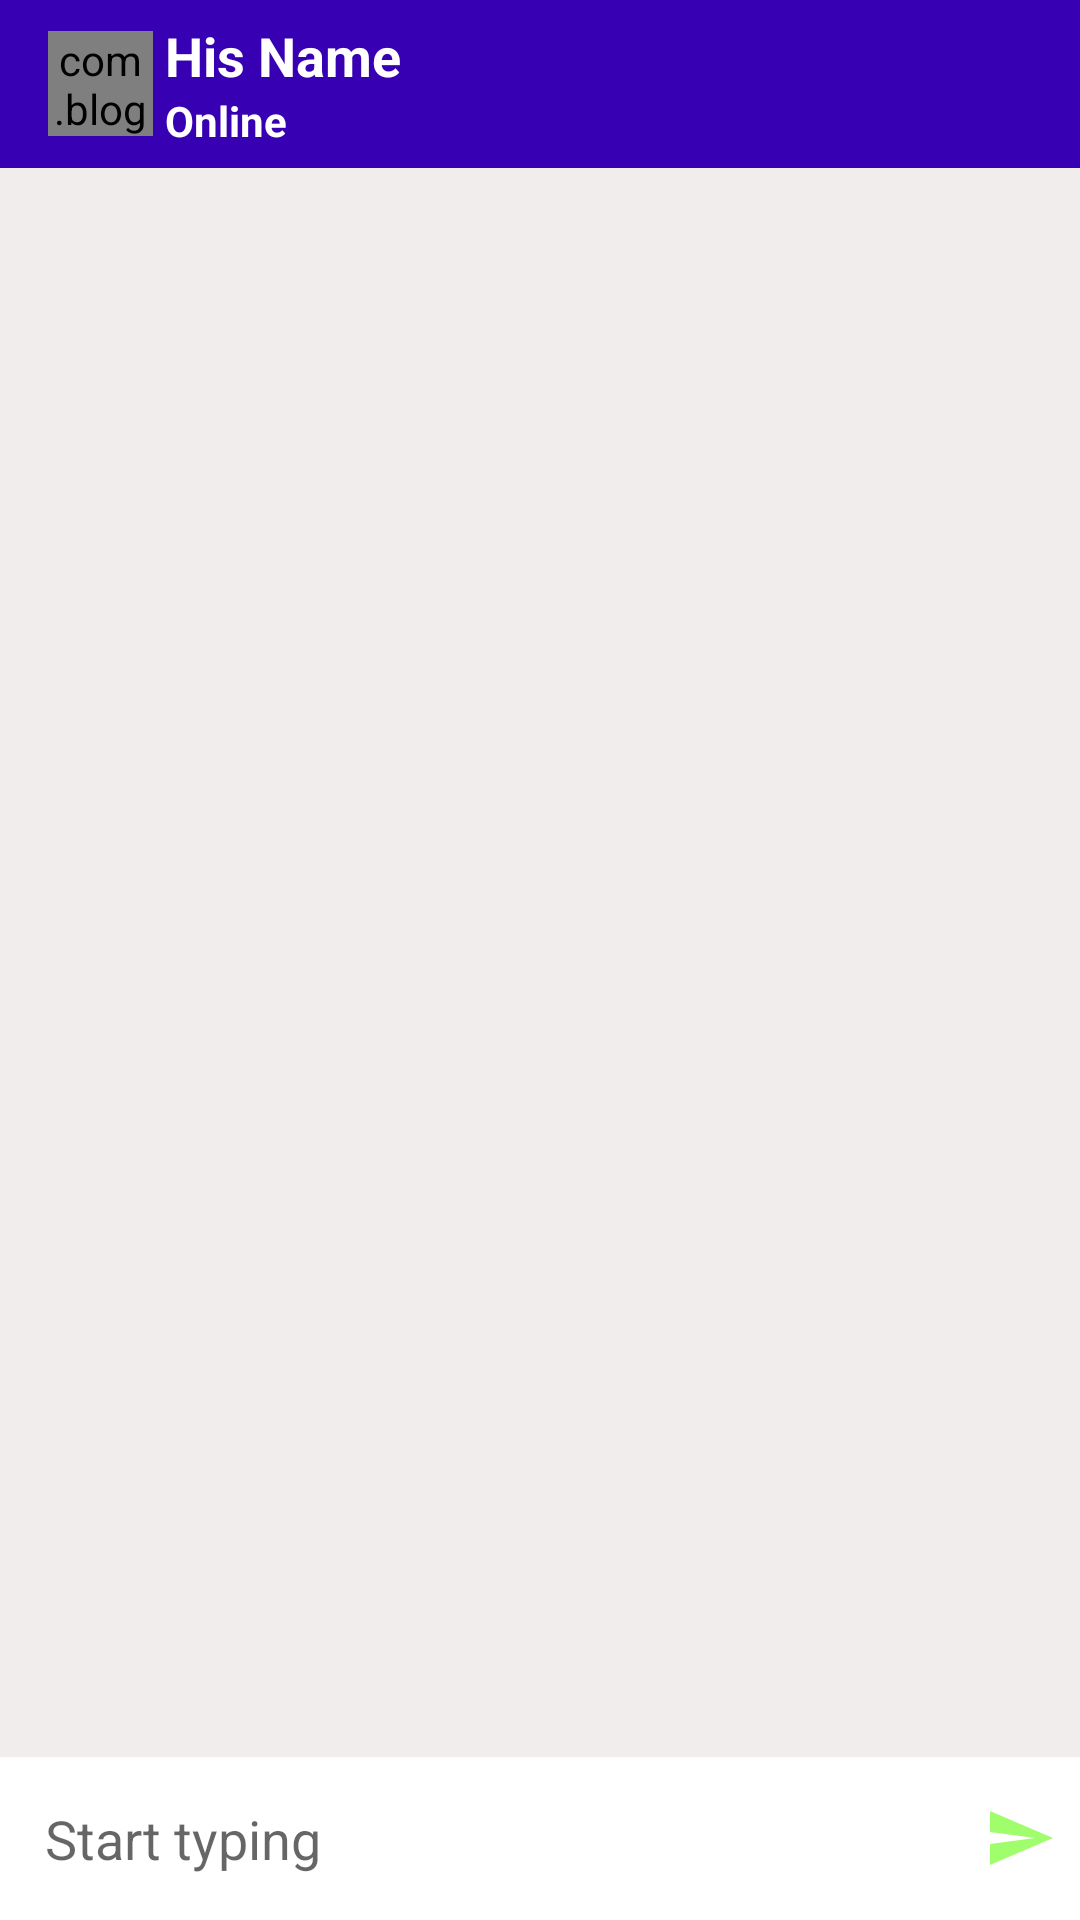

Screen size 1080px x 1920px. Icon name, then its box in pixels as (x1, y1, x2, y2):
send: (990, 1811, 1053, 1865)
